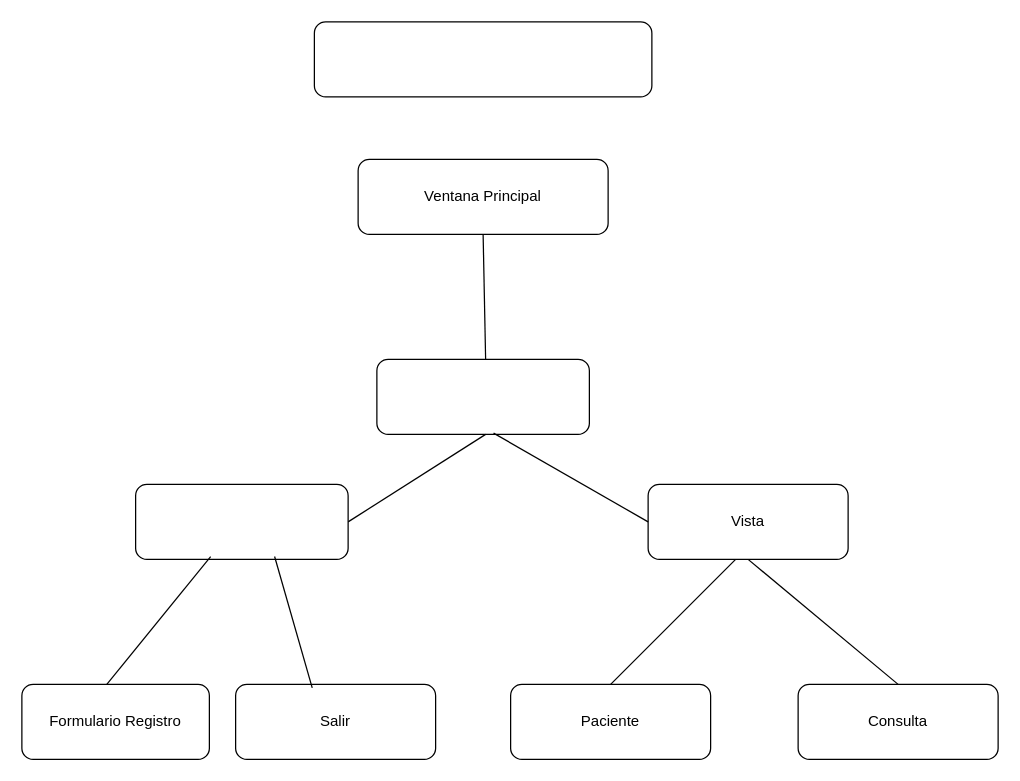
Image size: 1020x781. Some labels were removed from this diagram. Each missing label, with the centre of its shape:
Archivo: the point at 241,521
MAPA NAVEGACION: the point at 482,59
Menu Bar: the point at 482,396
